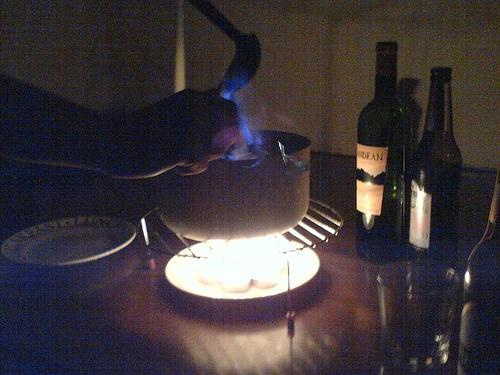tampered: (279, 142, 309, 175)
